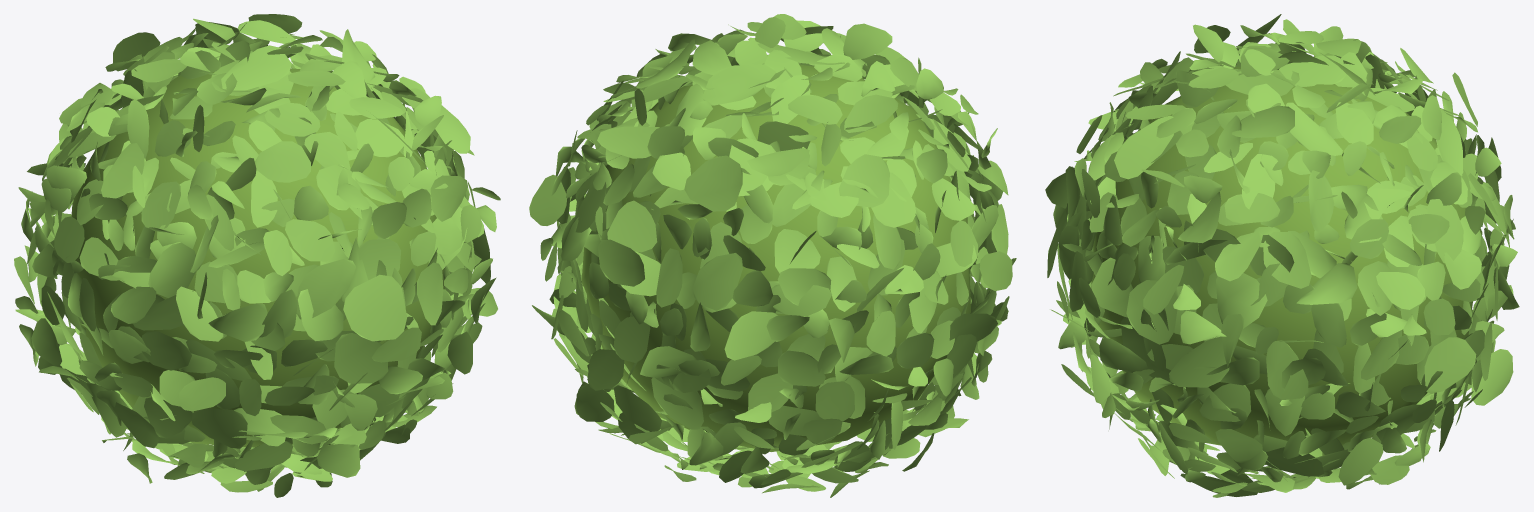
Rendered from regular_bush.fbx.
The picture shows the model from 3 angles, left to right: view 1: azimuth 30°, elevation 25°; view 2: azimuth 150°, elevation 25°; view 3: azimuth 270°, elevation 25°; orthographic projection.
Visible parts, largest first — view 1: bush.001; view 2: bush.001; view 3: bush.001.
Boxes of the visible parts, <box> form: bush.001: <box>14,14,500,497</box>; bush.001: <box>529,14,1016,497</box>; bush.001: <box>1045,14,1519,497</box>.
Size of the model in its own units: 131 by 136 by 131.
